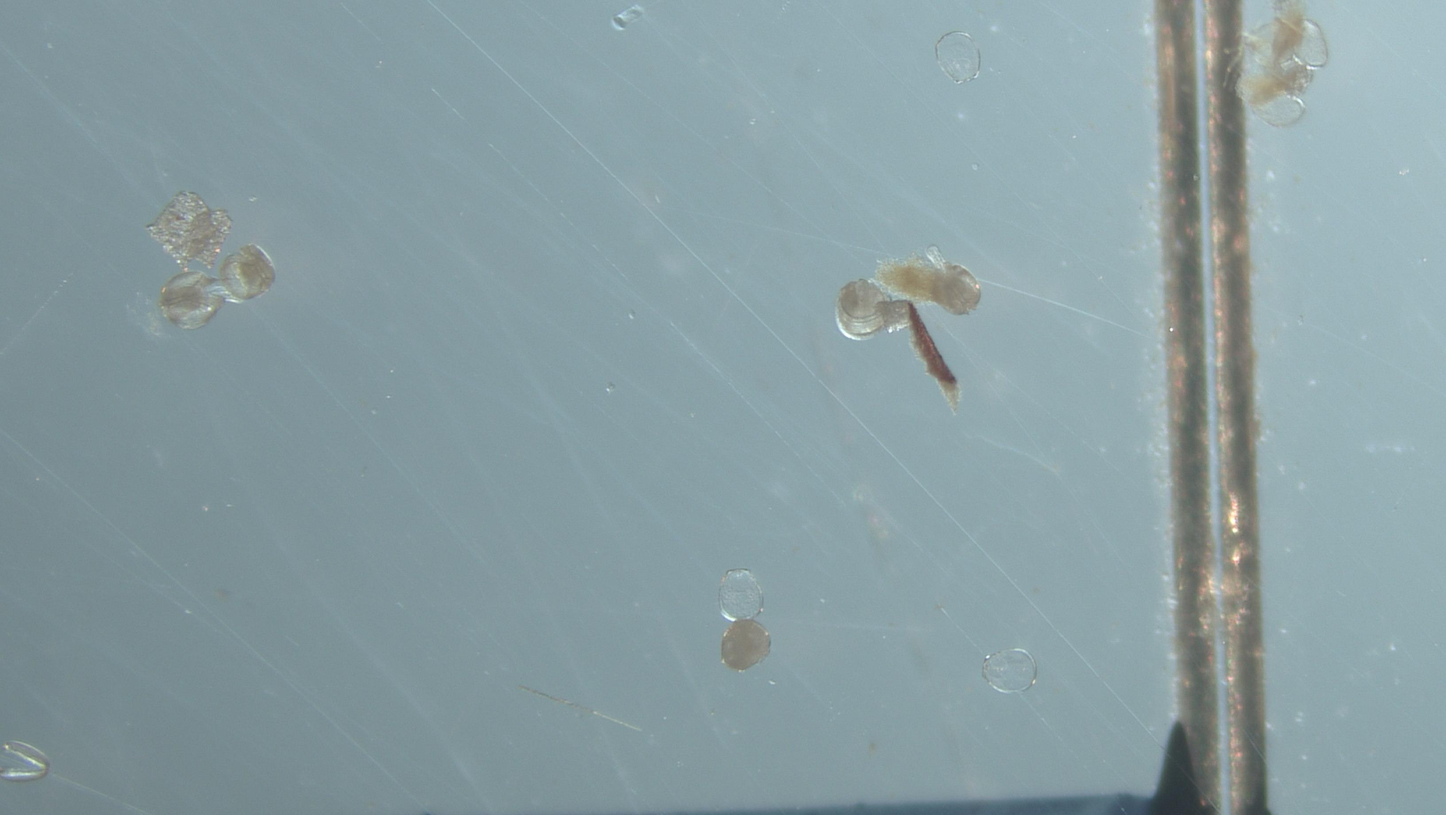dead: (982, 649, 1037, 693), (718, 569, 764, 621), (935, 31, 980, 83)
live: (158, 270, 232, 330), (219, 244, 275, 301), (836, 279, 888, 339), (929, 262, 981, 315), (721, 620, 771, 671)
